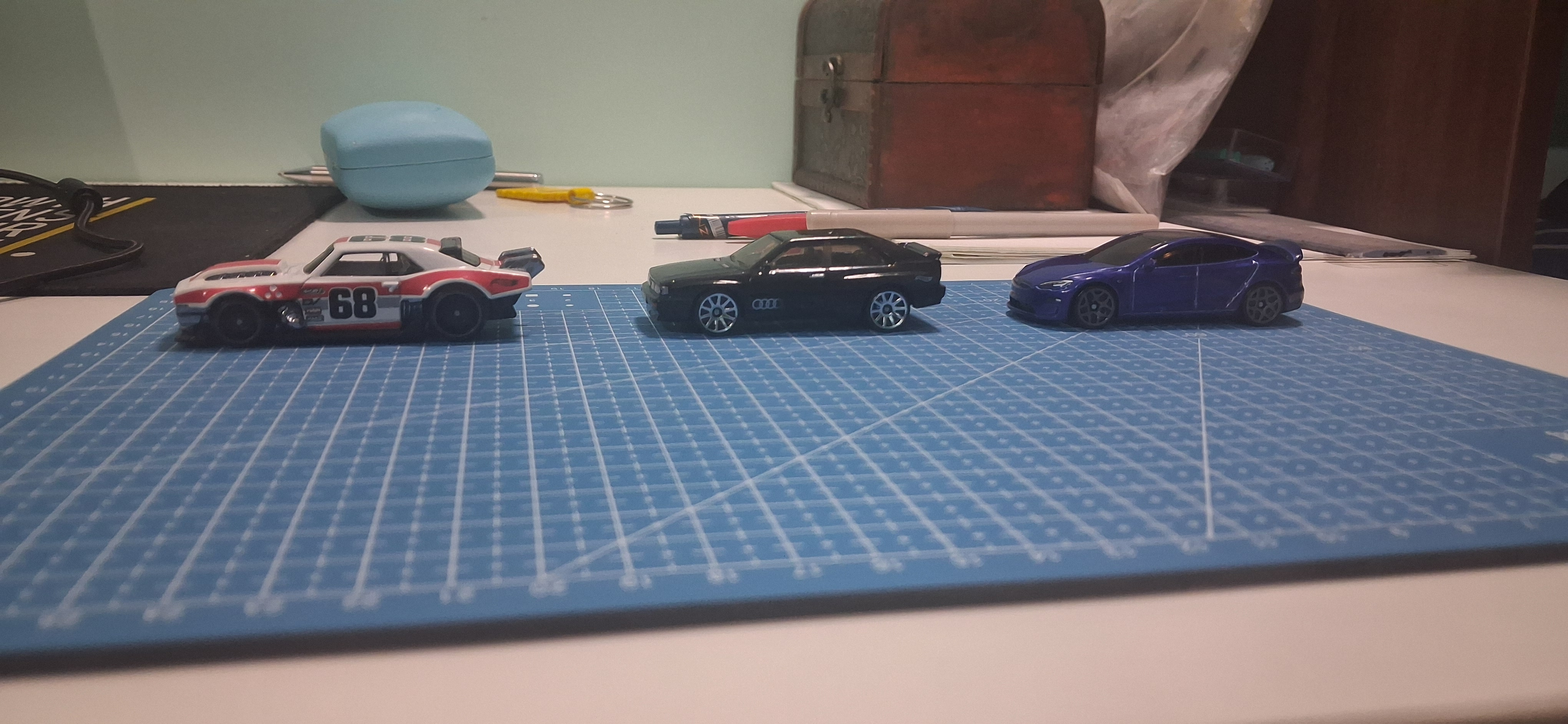Audi_Quattro: (607, 213, 953, 354)
Camaro: (146, 204, 570, 367)
Tesla_Model_S_Plaid: (997, 198, 1341, 359)
